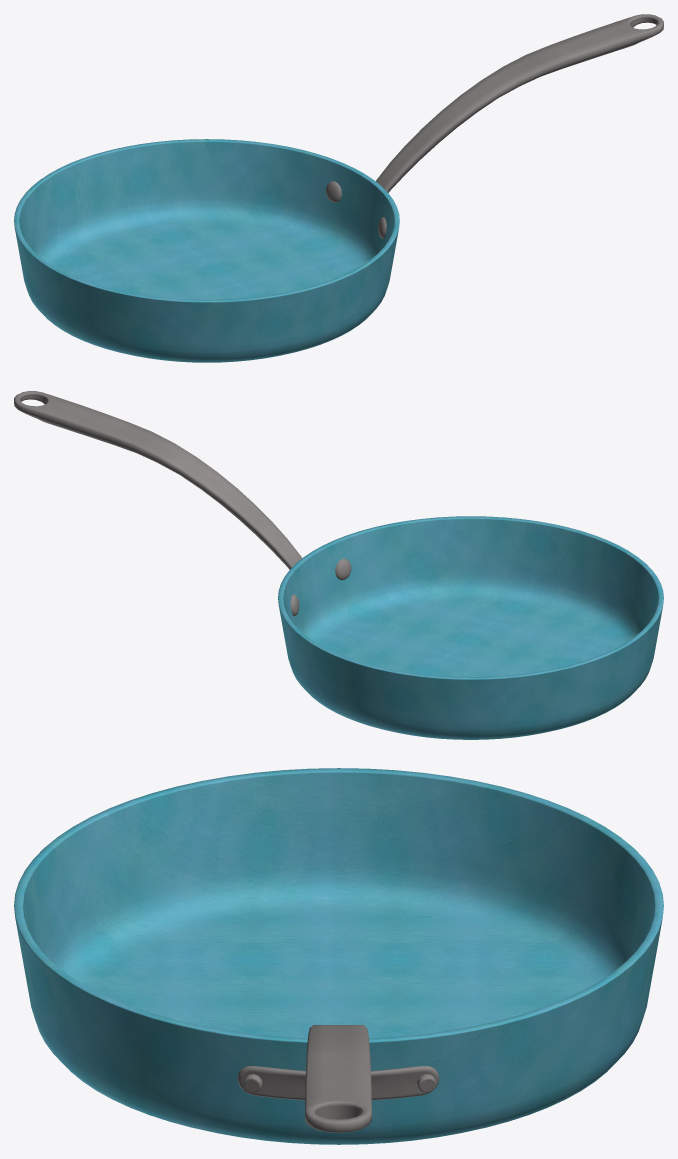
File: padella35.glb
3 views of the same model, one above another, from view 1: azimuth 30°, elevation 25°; view 2: azimuth 150°, elevation 25°; view 3: azimuth 270°, elevation 25° (orthographic). The views are drawn at different scales.
Parts seen in each view (by area): view 1: contemporary_cookware_frying_pan_YBK2_FQ; view 2: contemporary_cookware_frying_pan_YBK2_FQ; view 3: contemporary_cookware_frying_pan_YBK2_FQ.
Part boxes in pixels (left/top/right/bottom): contemporary_cookware_frying_pan_YBK2_FQ: left=14, top=14, right=663, bottom=362; contemporary_cookware_frying_pan_YBK2_FQ: left=14, top=391, right=663, bottom=739; contemporary_cookware_frying_pan_YBK2_FQ: left=14, top=768, right=663, bottom=1144.
Size of the model in its own units: 59.34 by 15.05 by 31.91.
Materials: 2 (2 with a texture image).
